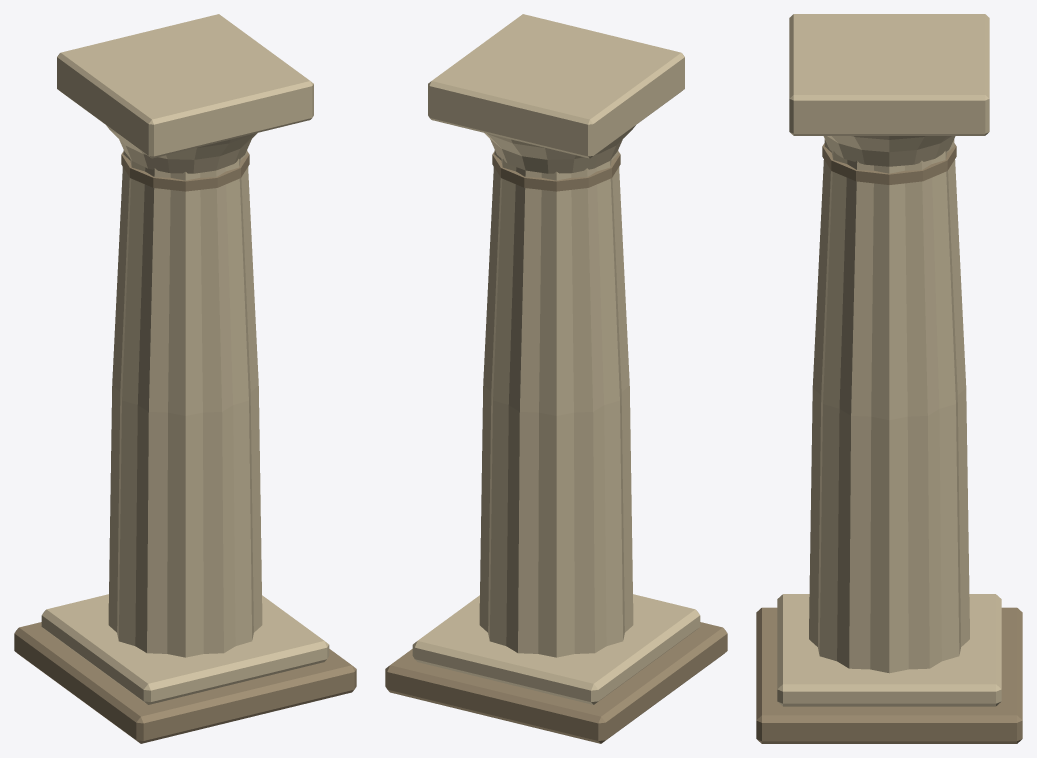
File: column.glb
The picture shows the model from 3 angles, left to right: view 1: azimuth 30°, elevation 25°; view 2: azimuth 150°, elevation 25°; view 3: azimuth 270°, elevation 25°; orthographic projection. The views are drawn at different scales.
Visible parts, largest first — view 1: column; view 2: column; view 3: column.
Boxes of the visible parts, x1,y1,x2,y2 form: column: (14,14,356,743); column: (385,14,727,743); column: (756,14,1022,743).
Bounding box in the file's own units: 0.38 × 1 × 0.38.
